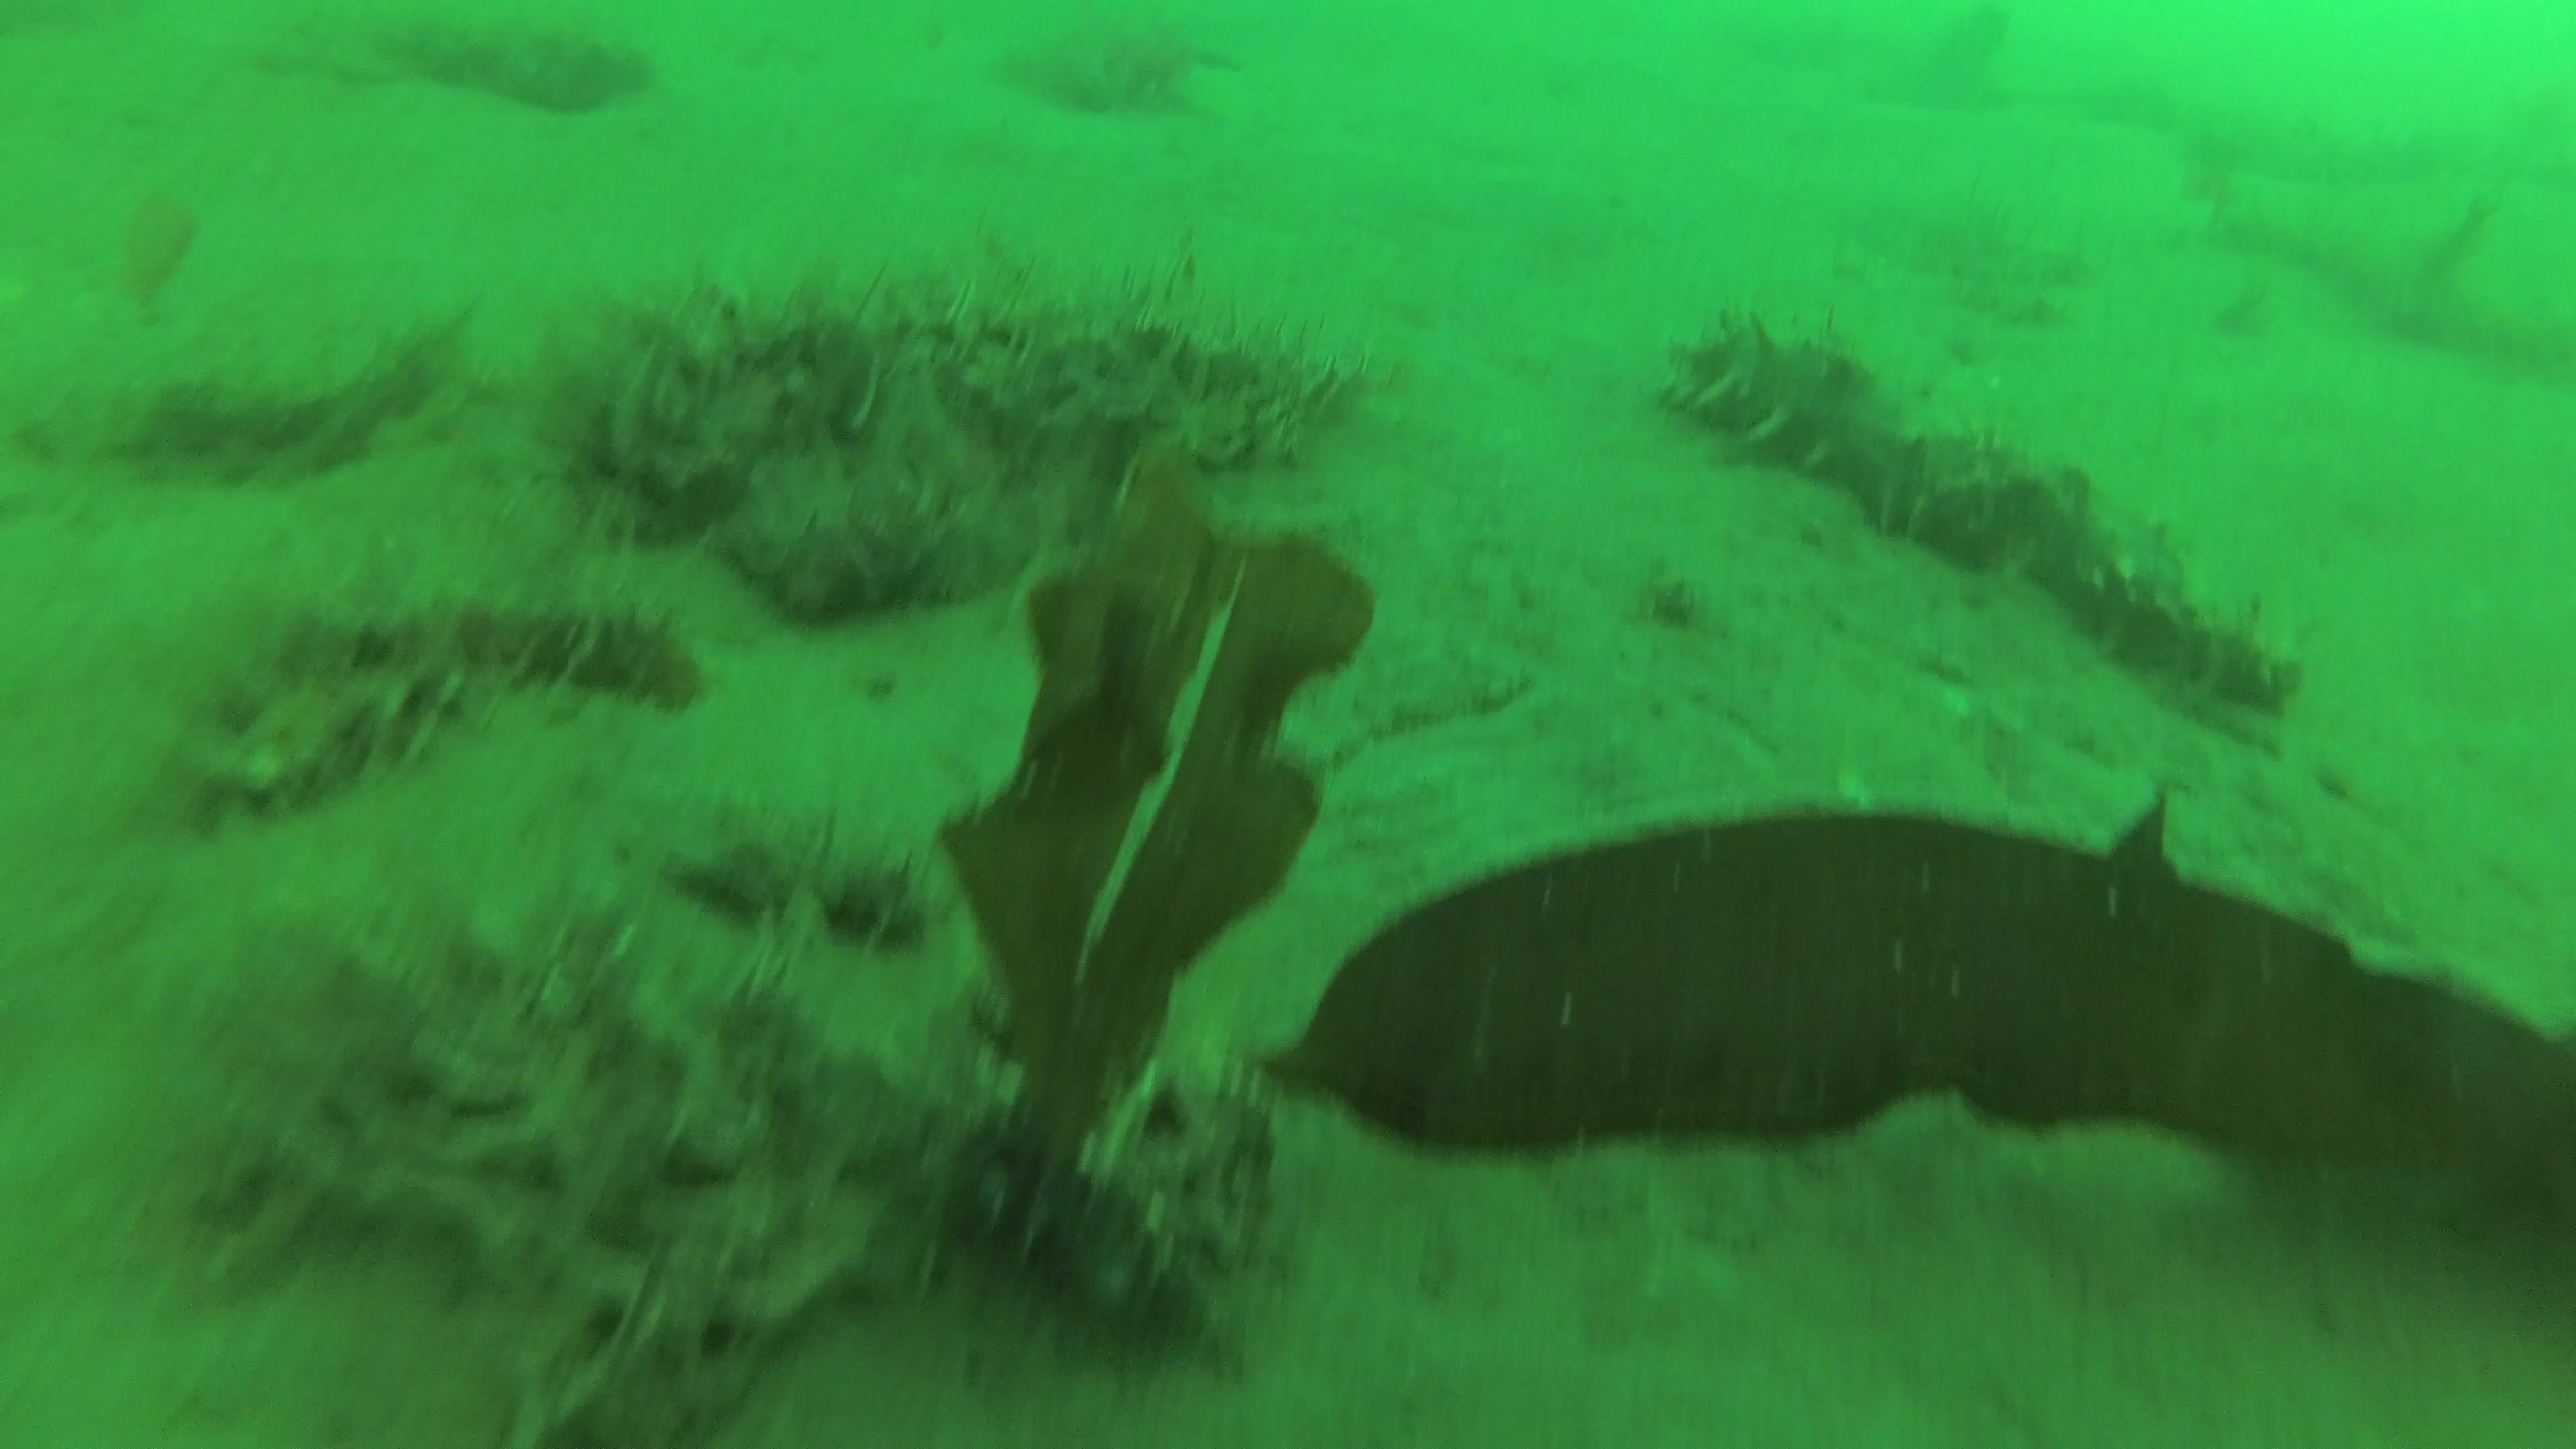holothurian: (1658, 303, 2304, 713)
